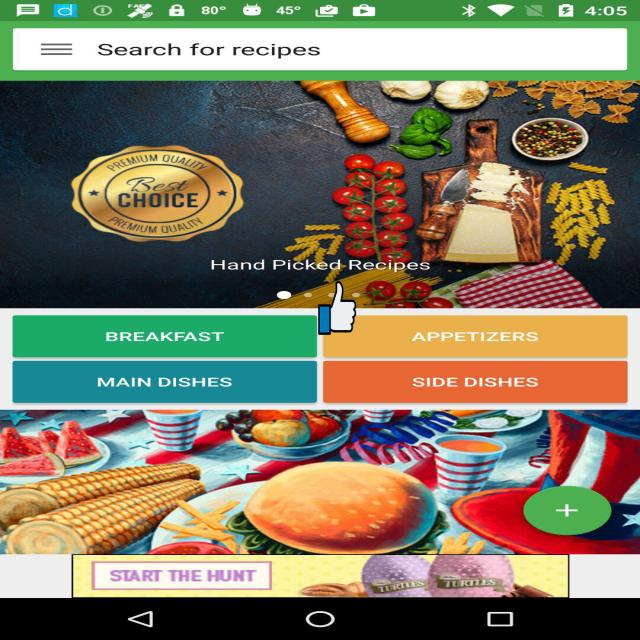privacy zuckering: (318, 280, 356, 336)
